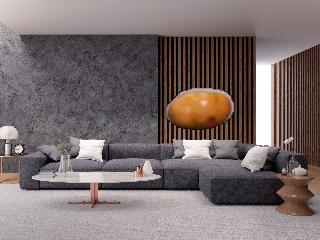potato: (166, 88, 234, 130)
